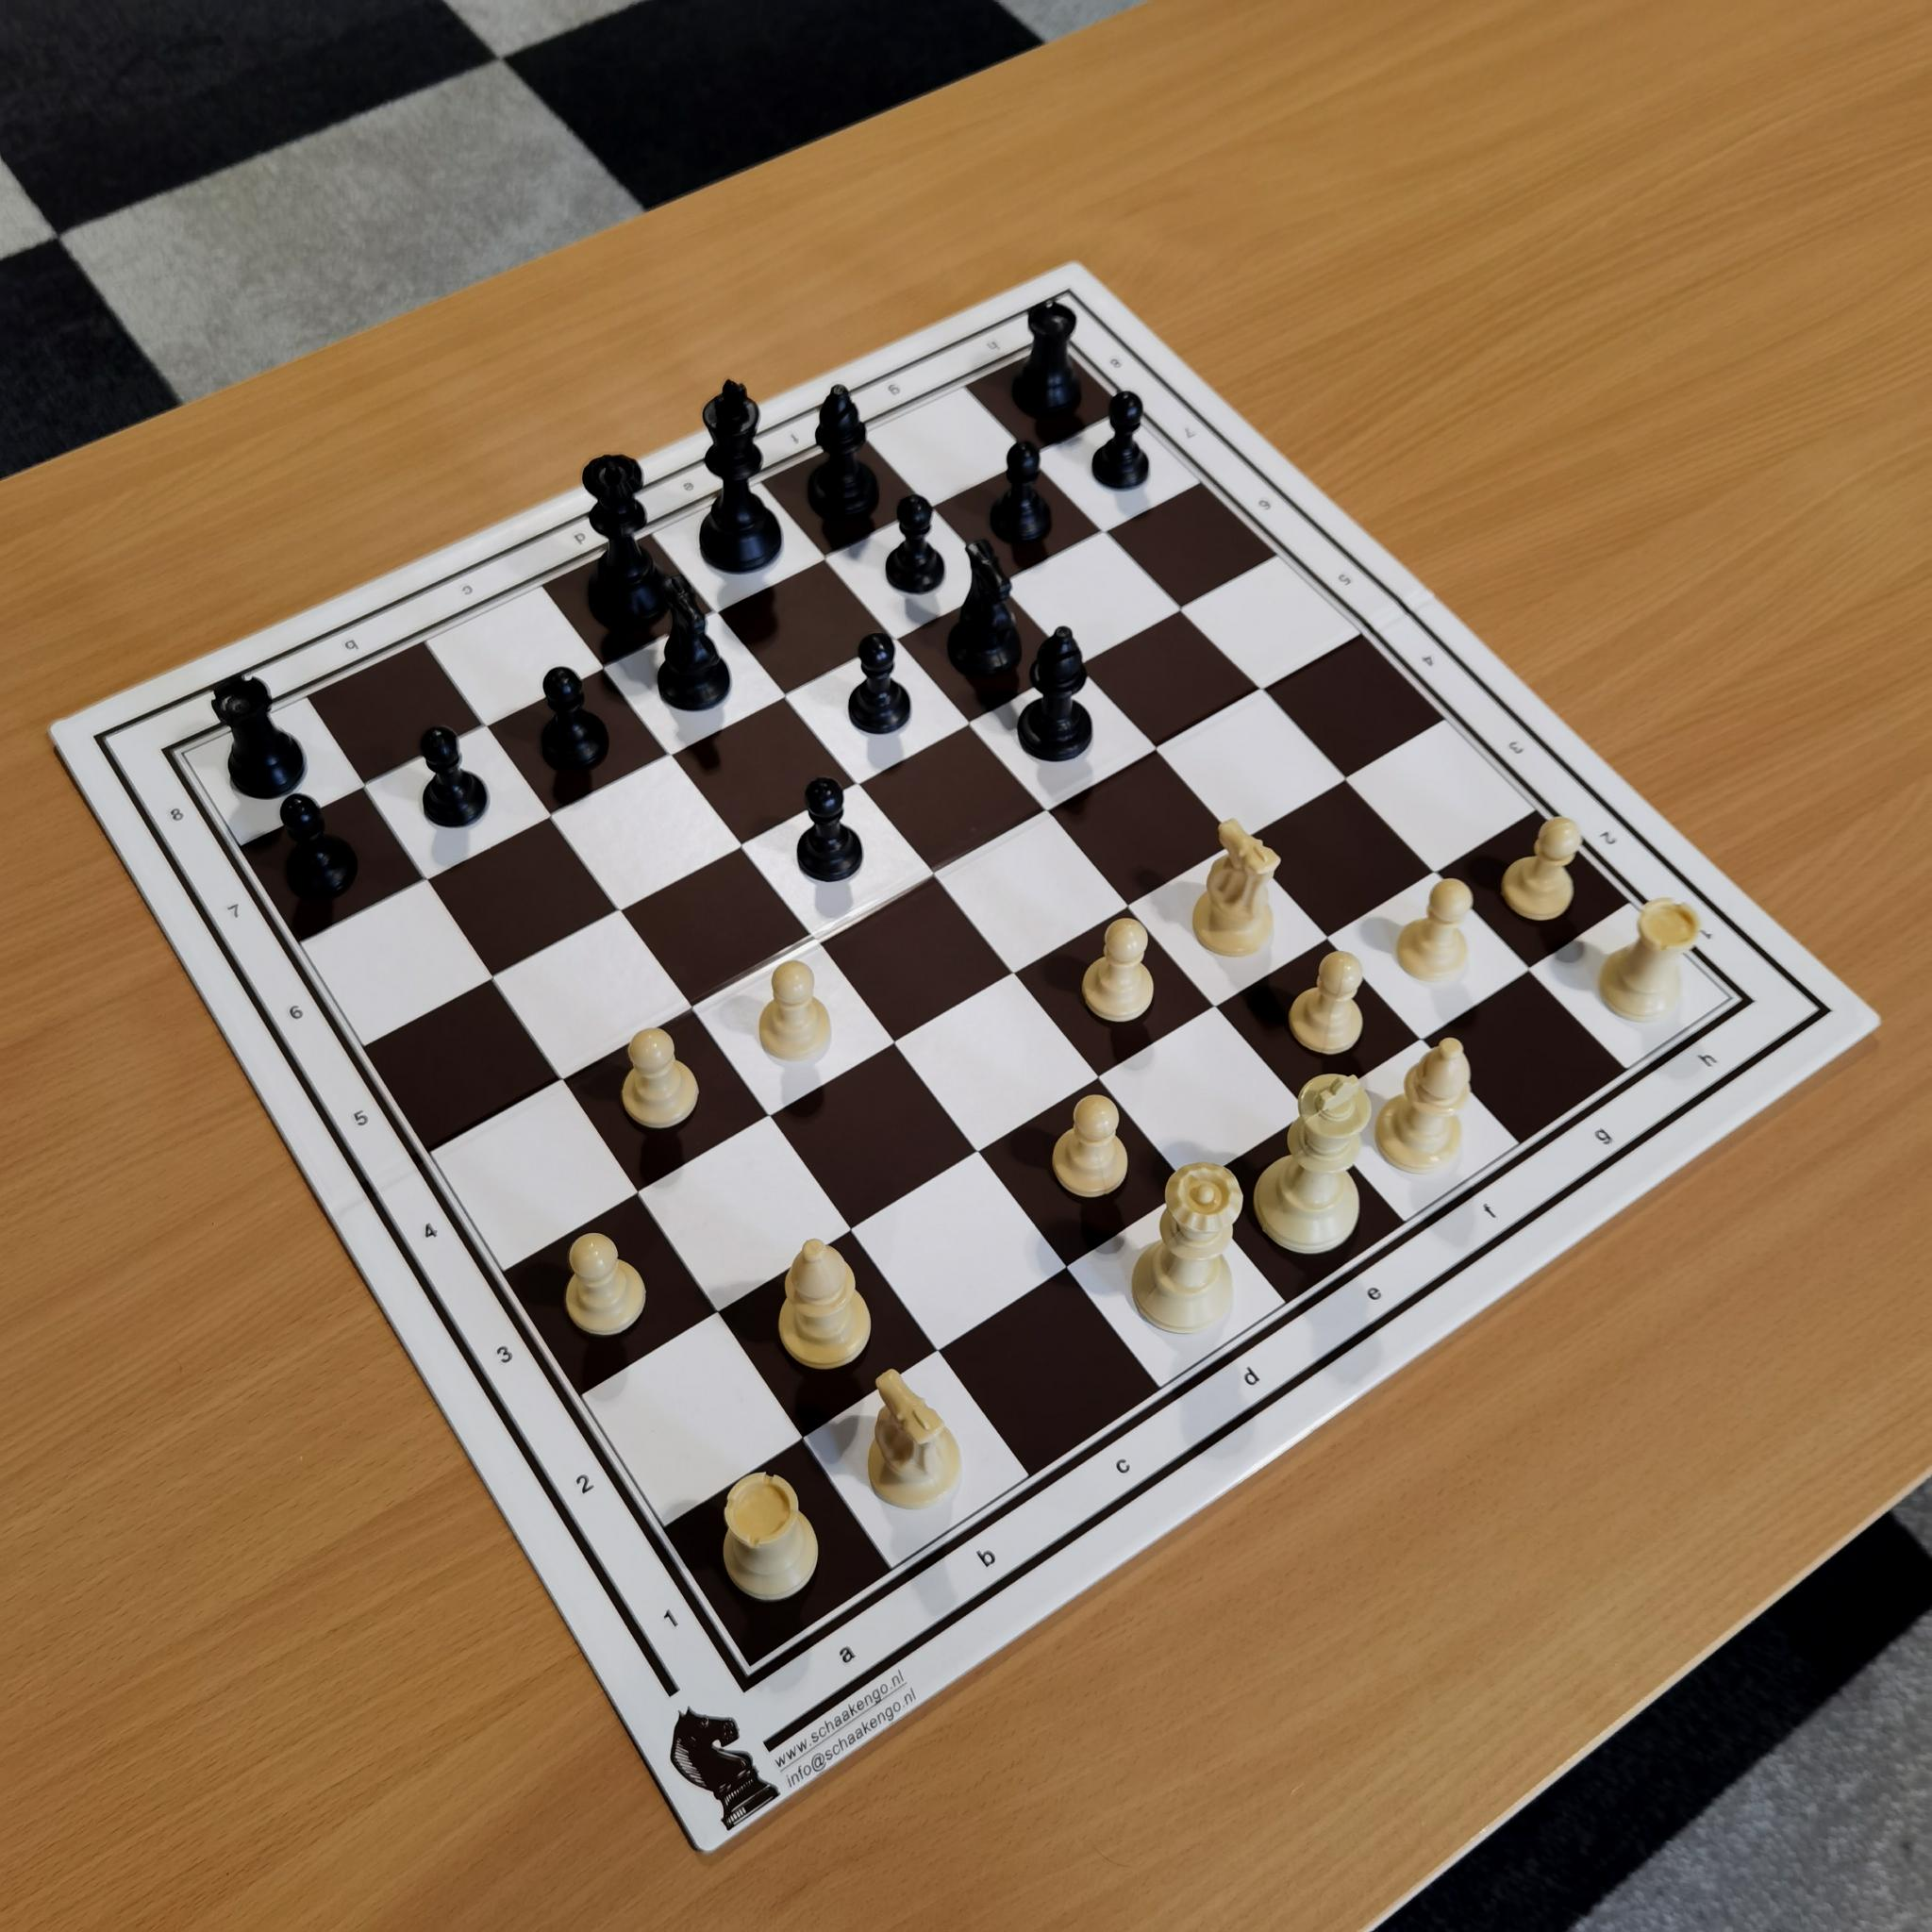corners: (713, 1638, 786, 1711), (1033, 315, 1087, 386), (1704, 973, 1774, 1022), (148, 732, 208, 779)
eight: (160, 791, 196, 841), (1102, 342, 1138, 382)
